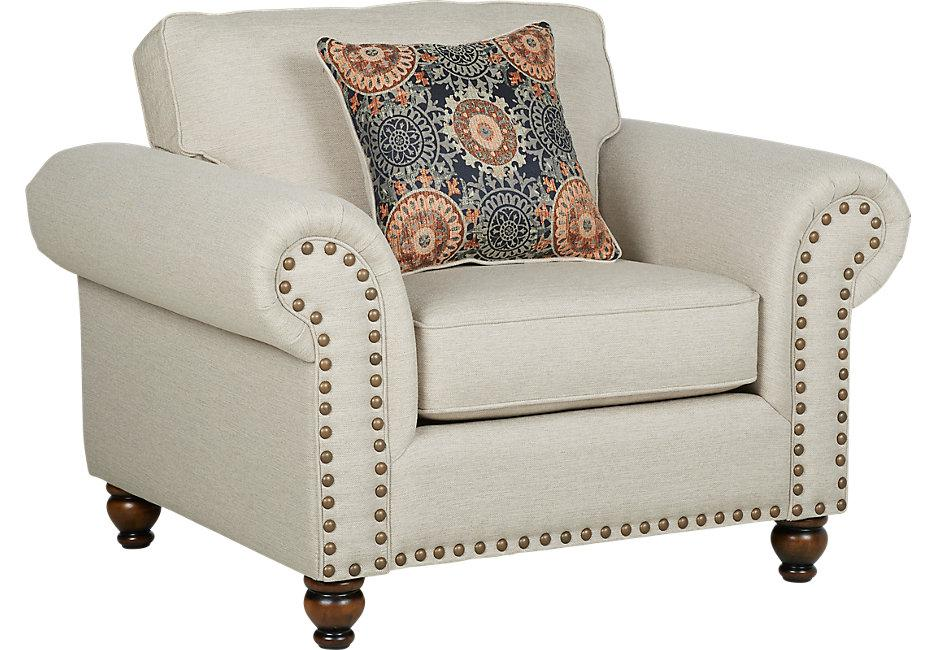chair: (19, 8, 907, 650)
